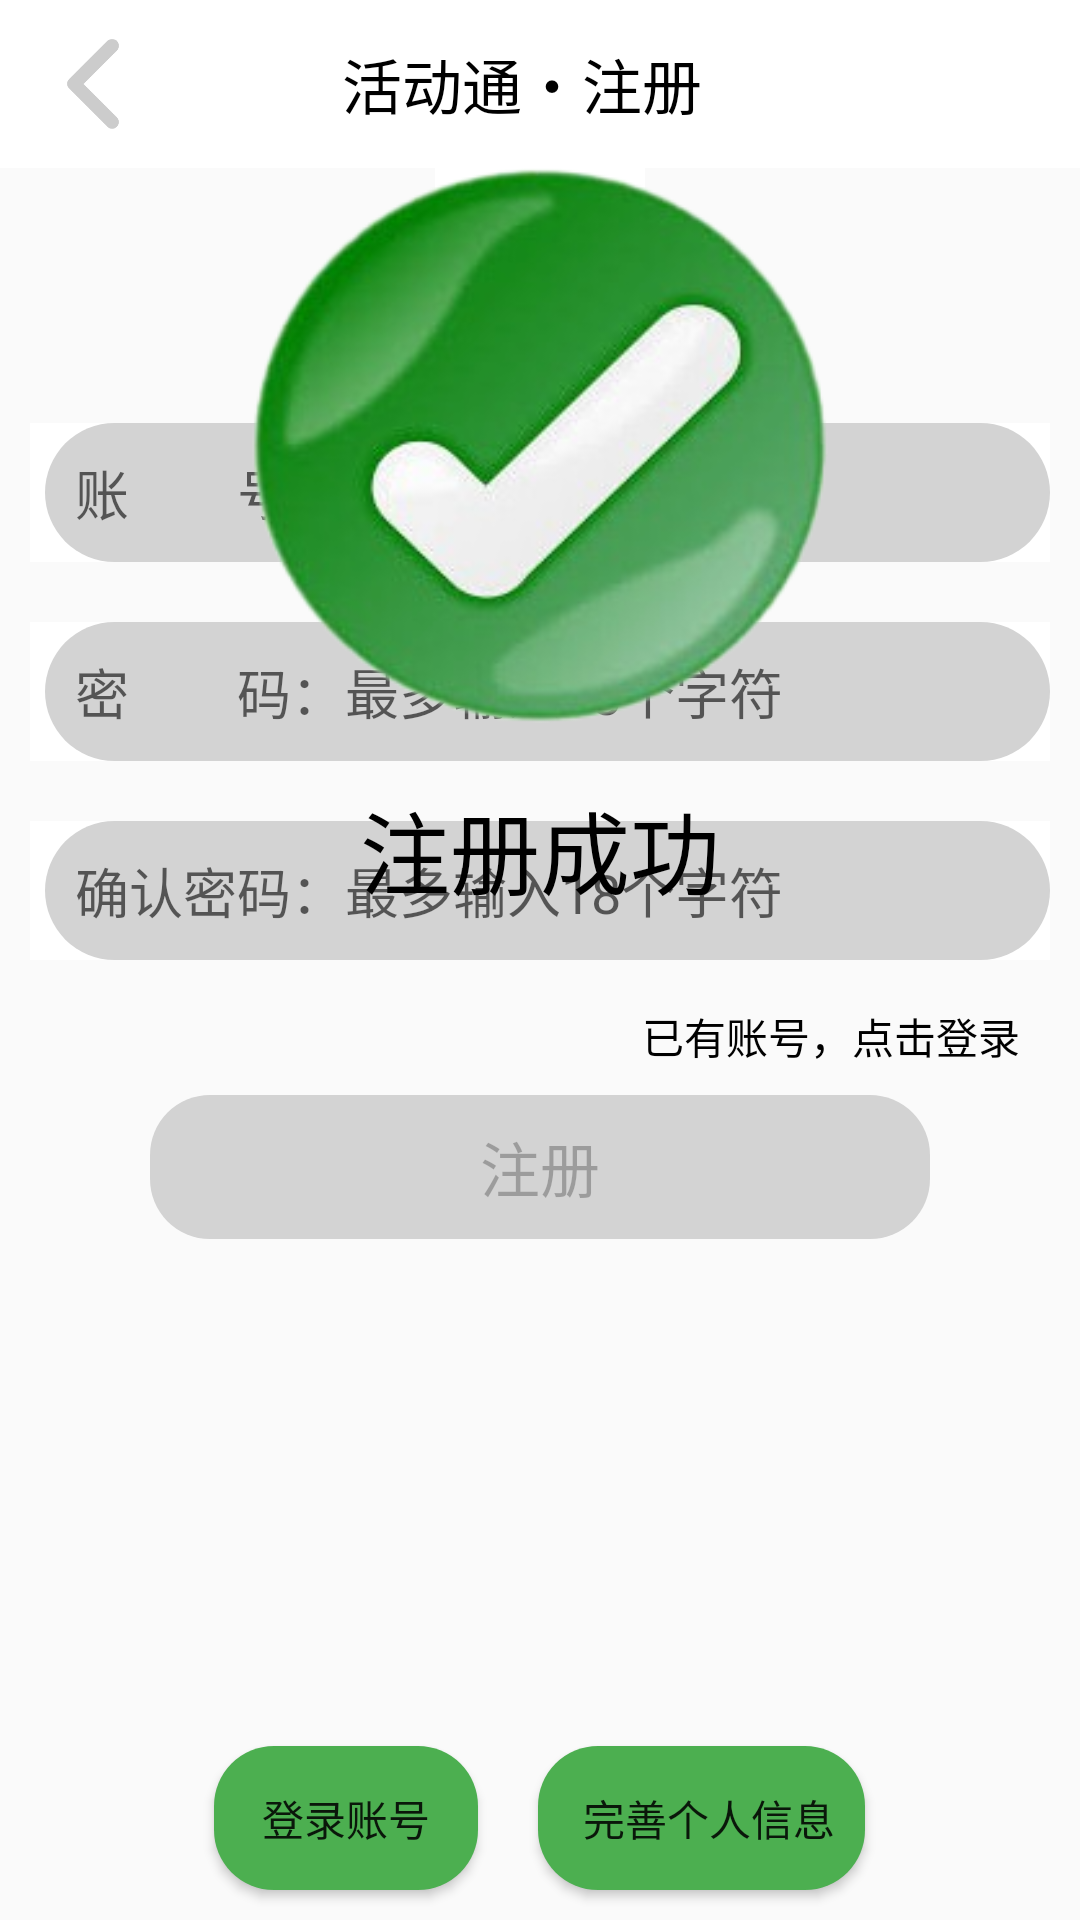

Where to tap for icons on this 1080w x 1920h app screen, as (x=x, y=y):
arrow left: (x=93, y=84)
